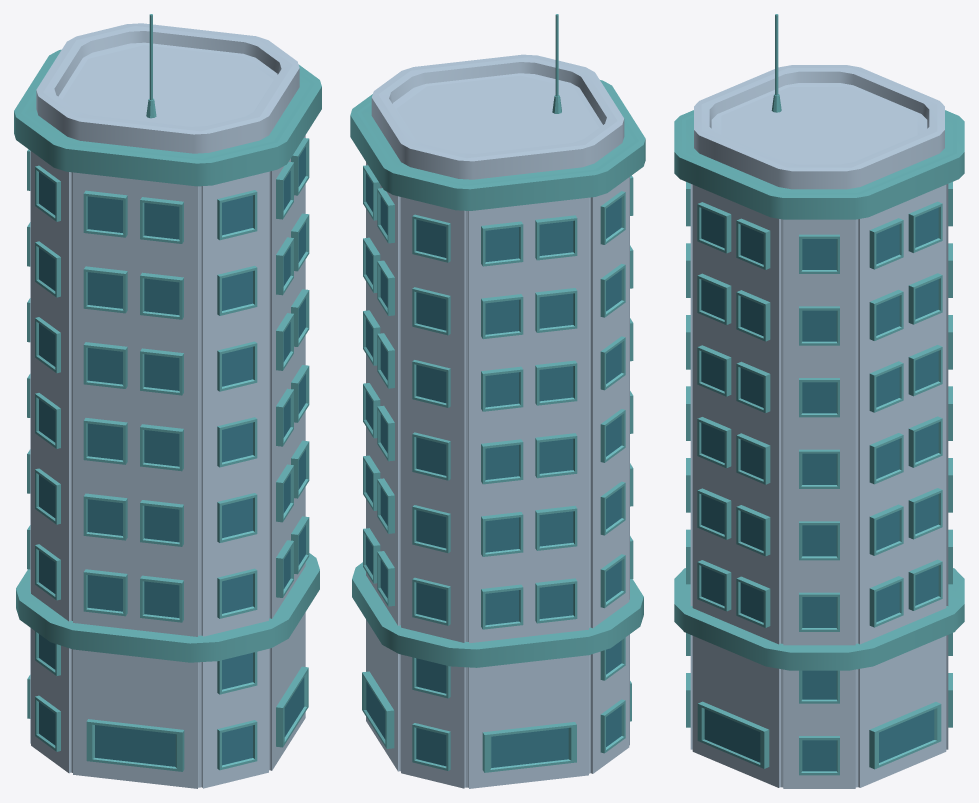
The model's file is edificio2_uvs.fbx.
3 renders of one model, left to right at view 1: azimuth 30°, elevation 25°; view 2: azimuth 150°, elevation 25°; view 3: azimuth 270°, elevation 25°, orthographic. The views are drawn at different scales.
Visible parts, largest first — view 1: edificio2_merged; view 2: edificio2_merged; view 3: edificio2_merged.
Boxes of the visible parts, x1,y1,x2,y2 form: edificio2_merged: [14, 14, 321, 788]; edificio2_merged: [350, 14, 645, 788]; edificio2_merged: [674, 14, 964, 788].
Bounding box in the file's own units: 1351 × 3601 × 1351.
